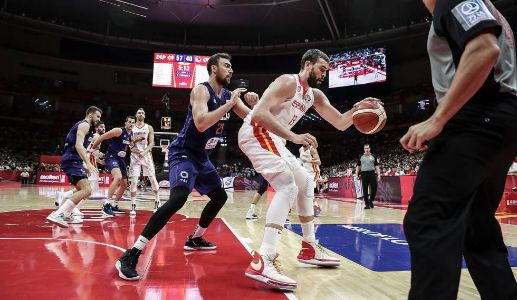baloncesto: (352, 100, 387, 135)
